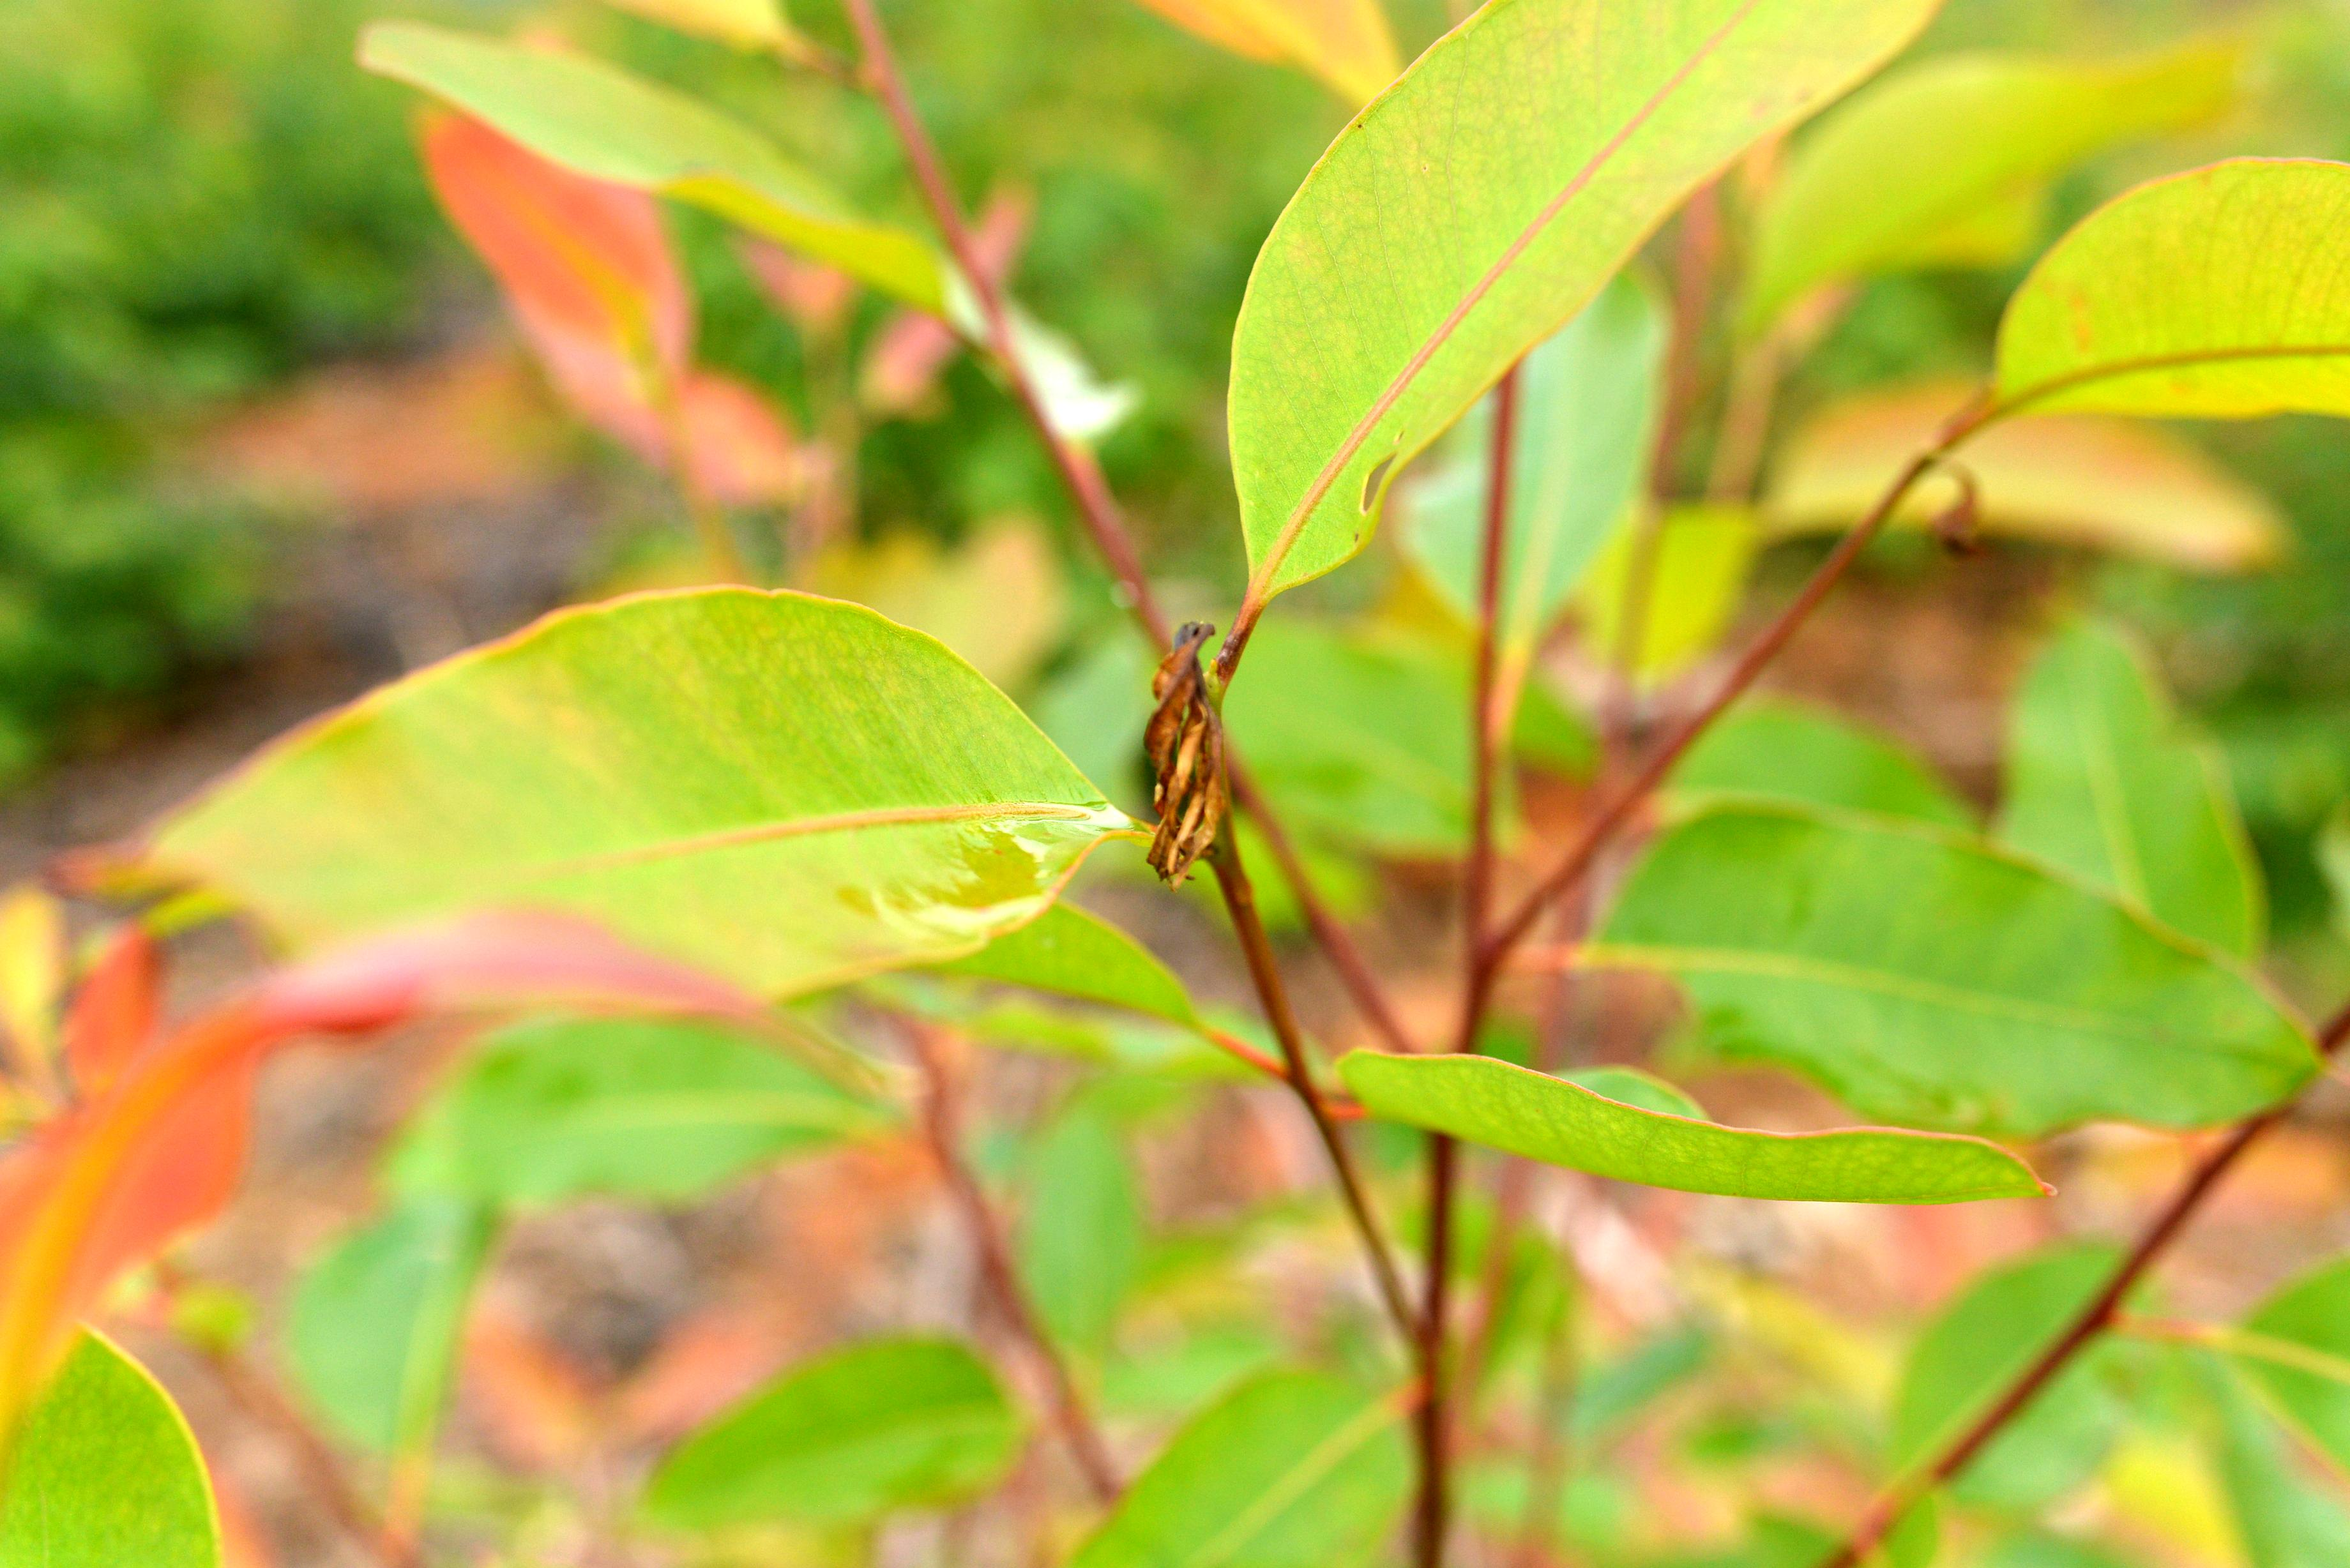Helopeltis-Withered Sprout: (1139, 616, 1235, 891), (1934, 448, 1995, 579)
